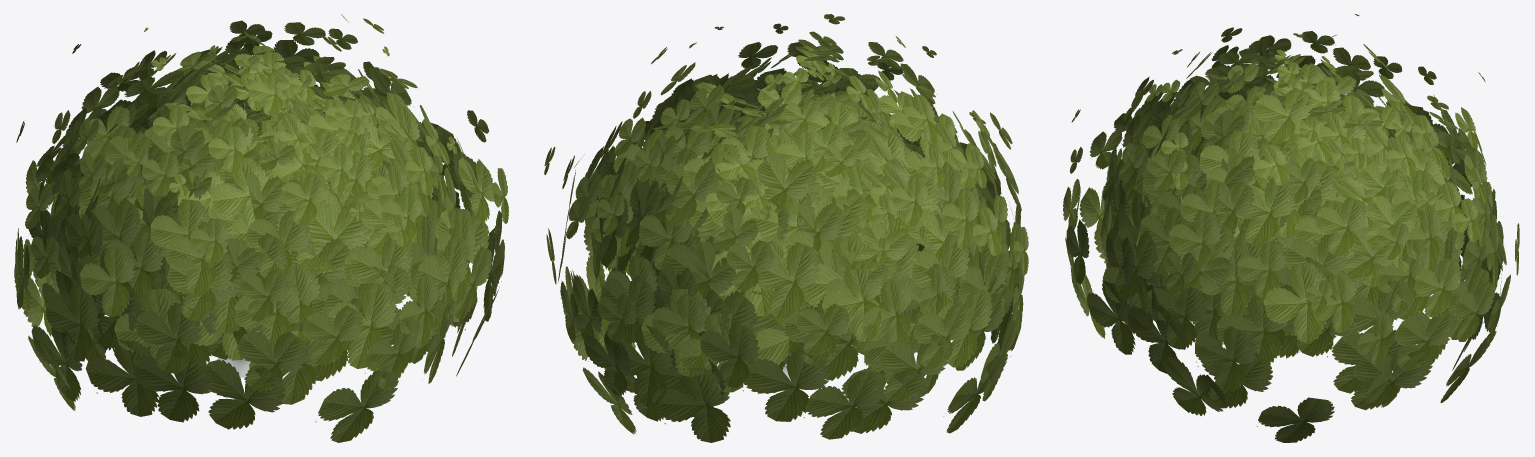
The model's file is Bush_Normal.fbx.
The picture shows the model from 3 angles, left to right: view 1: azimuth 30°, elevation 25°; view 2: azimuth 150°, elevation 25°; view 3: azimuth 270°, elevation 25°; orthographic projection. The views are drawn at different scales.
Visible parts, largest first — view 1: leaf raspberry_1; view 2: leaf raspberry_1; view 3: leaf raspberry_1.
Part boxes in pixels (x1,y1,x2,y2): leaf raspberry_1: (14,14,509,442); leaf raspberry_1: (544,14,1028,442); leaf raspberry_1: (1063,14,1519,442).
Size of the model in its own units: 279 by 202 by 261.
1 material, 1 textured.
